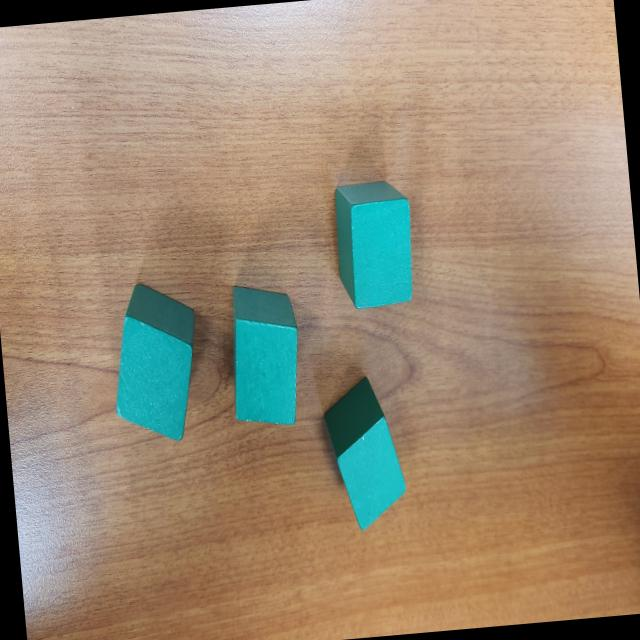green: (105, 278, 206, 446), (318, 371, 409, 531), (224, 280, 306, 430), (330, 177, 418, 310)
